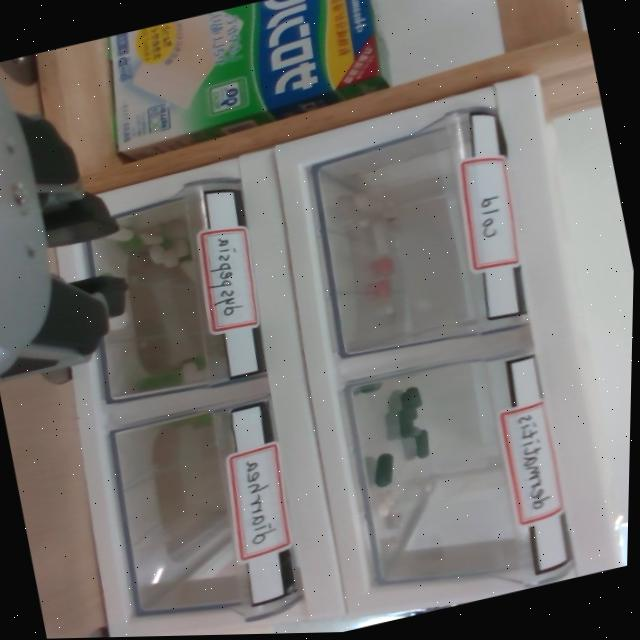text: (504, 408, 561, 513), (232, 449, 284, 547), (201, 228, 256, 319), (472, 185, 509, 241)
